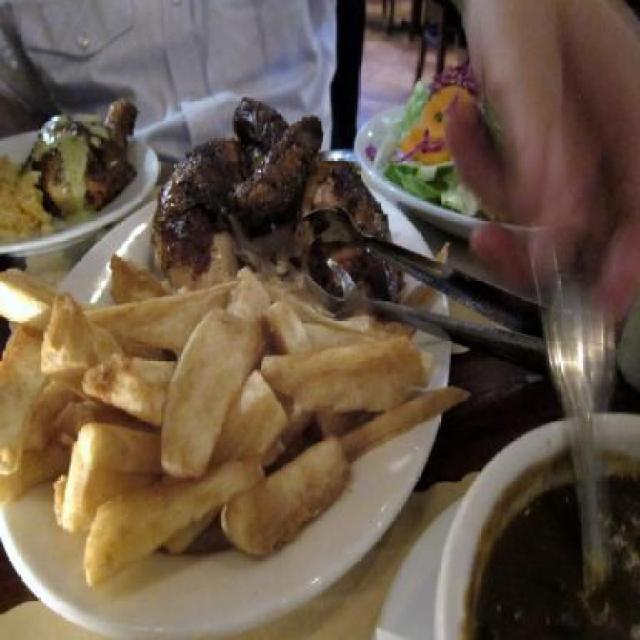Salad: (368, 58, 524, 220)
